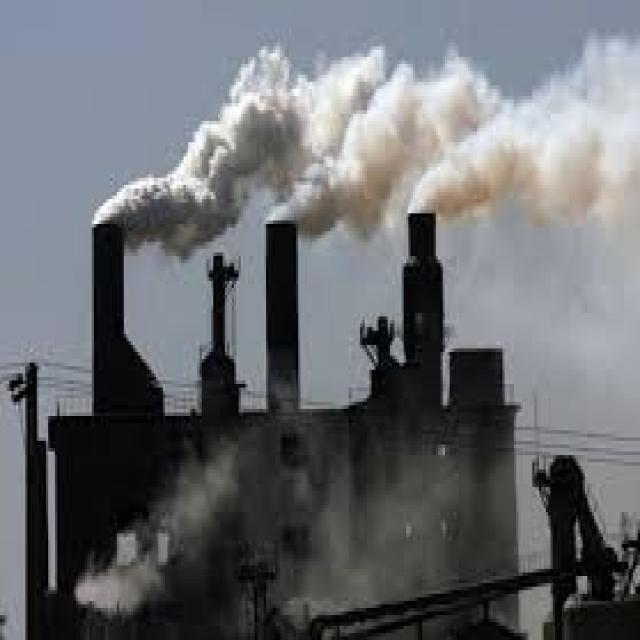Smoke: (92, 21, 640, 267)
